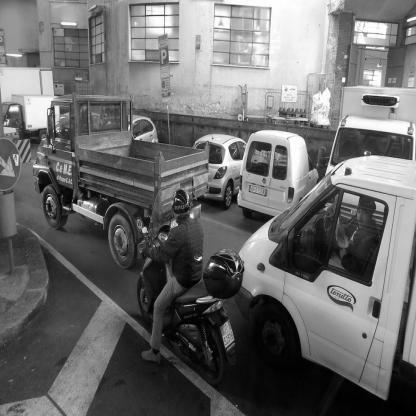car: (187, 127, 248, 203)
moto: (126, 244, 252, 377)
truck: (232, 144, 414, 410), (29, 93, 210, 259)
